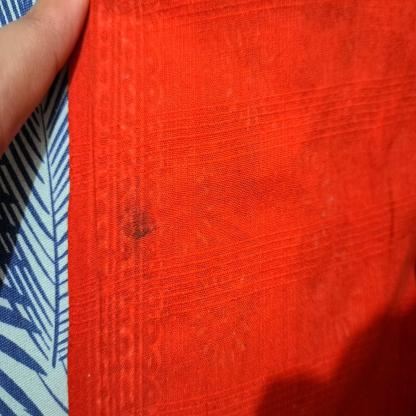spot: (122, 191, 159, 245)
